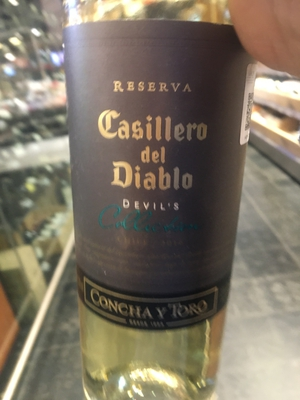casillero del diablo devils collection verde: (53, 4, 261, 394)
